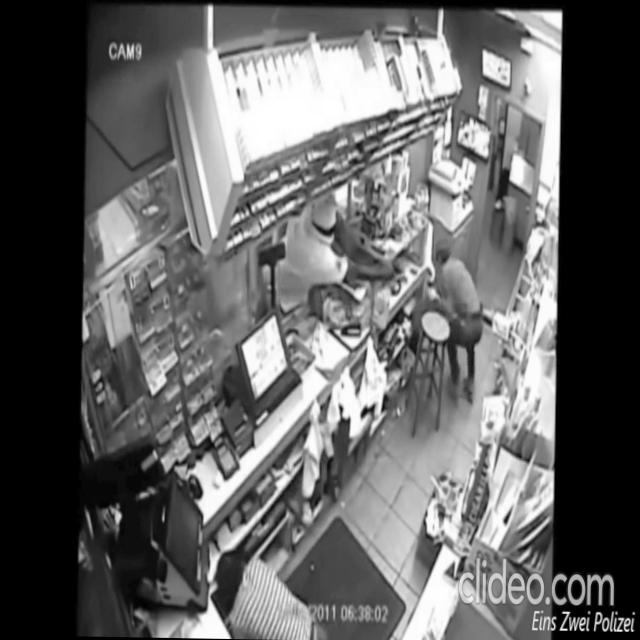gun: (386, 256, 406, 282)
person: (209, 543, 334, 640), (421, 238, 487, 407)
person with a gun: (274, 189, 408, 317)
